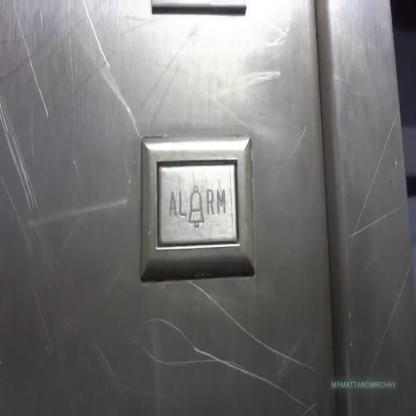alarm: (155, 156, 241, 246)
